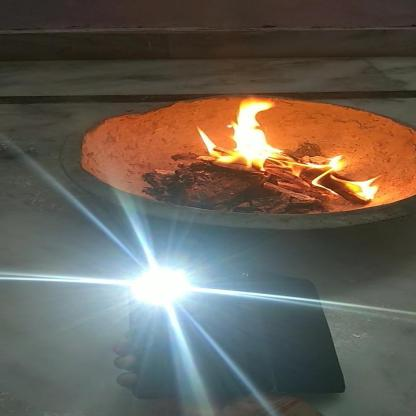fire: (190, 94, 292, 171), (304, 151, 384, 203)
